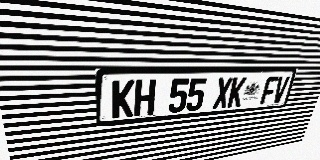5: (168, 78, 190, 113), (186, 78, 207, 111)
F: (260, 76, 279, 104)
H: (134, 79, 156, 116)
K: (112, 80, 135, 118), (227, 77, 247, 107)
V: (271, 76, 290, 103)
X: (212, 77, 233, 109)
